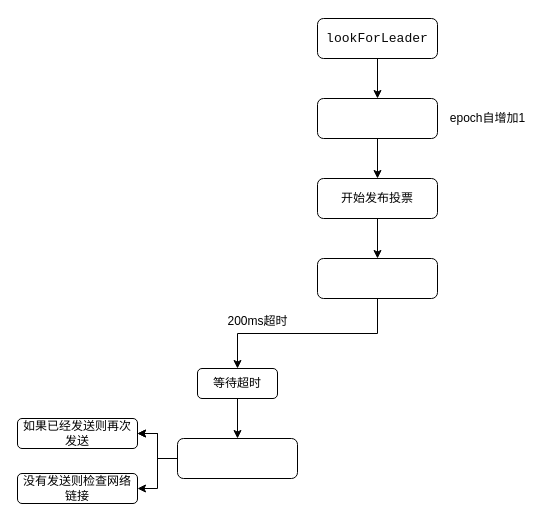
Some shapes in this 555 by 521 pixel diagram are drawn without their labels. The shapes that lost their labels are listed below. From the top down, each one's centre as x and y in pixels, then its label:
pixel 377 118: logicalclock
pixel 377 278: 等待响应投票结果
pixel 237 458: 检查是否需要重发
